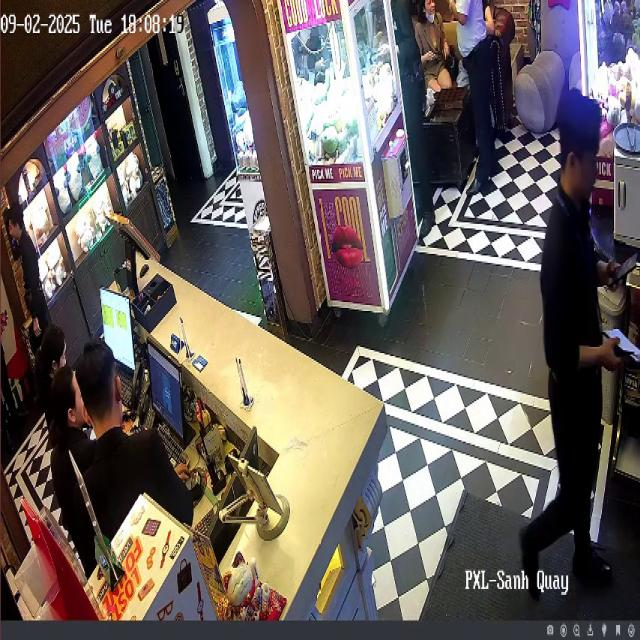khach: (447, 0, 506, 206), (412, 0, 452, 113)
nhan vien: (528, 63, 636, 612), (78, 335, 208, 597), (390, 0, 450, 249), (5, 203, 64, 427), (50, 362, 88, 594), (35, 301, 55, 551)
